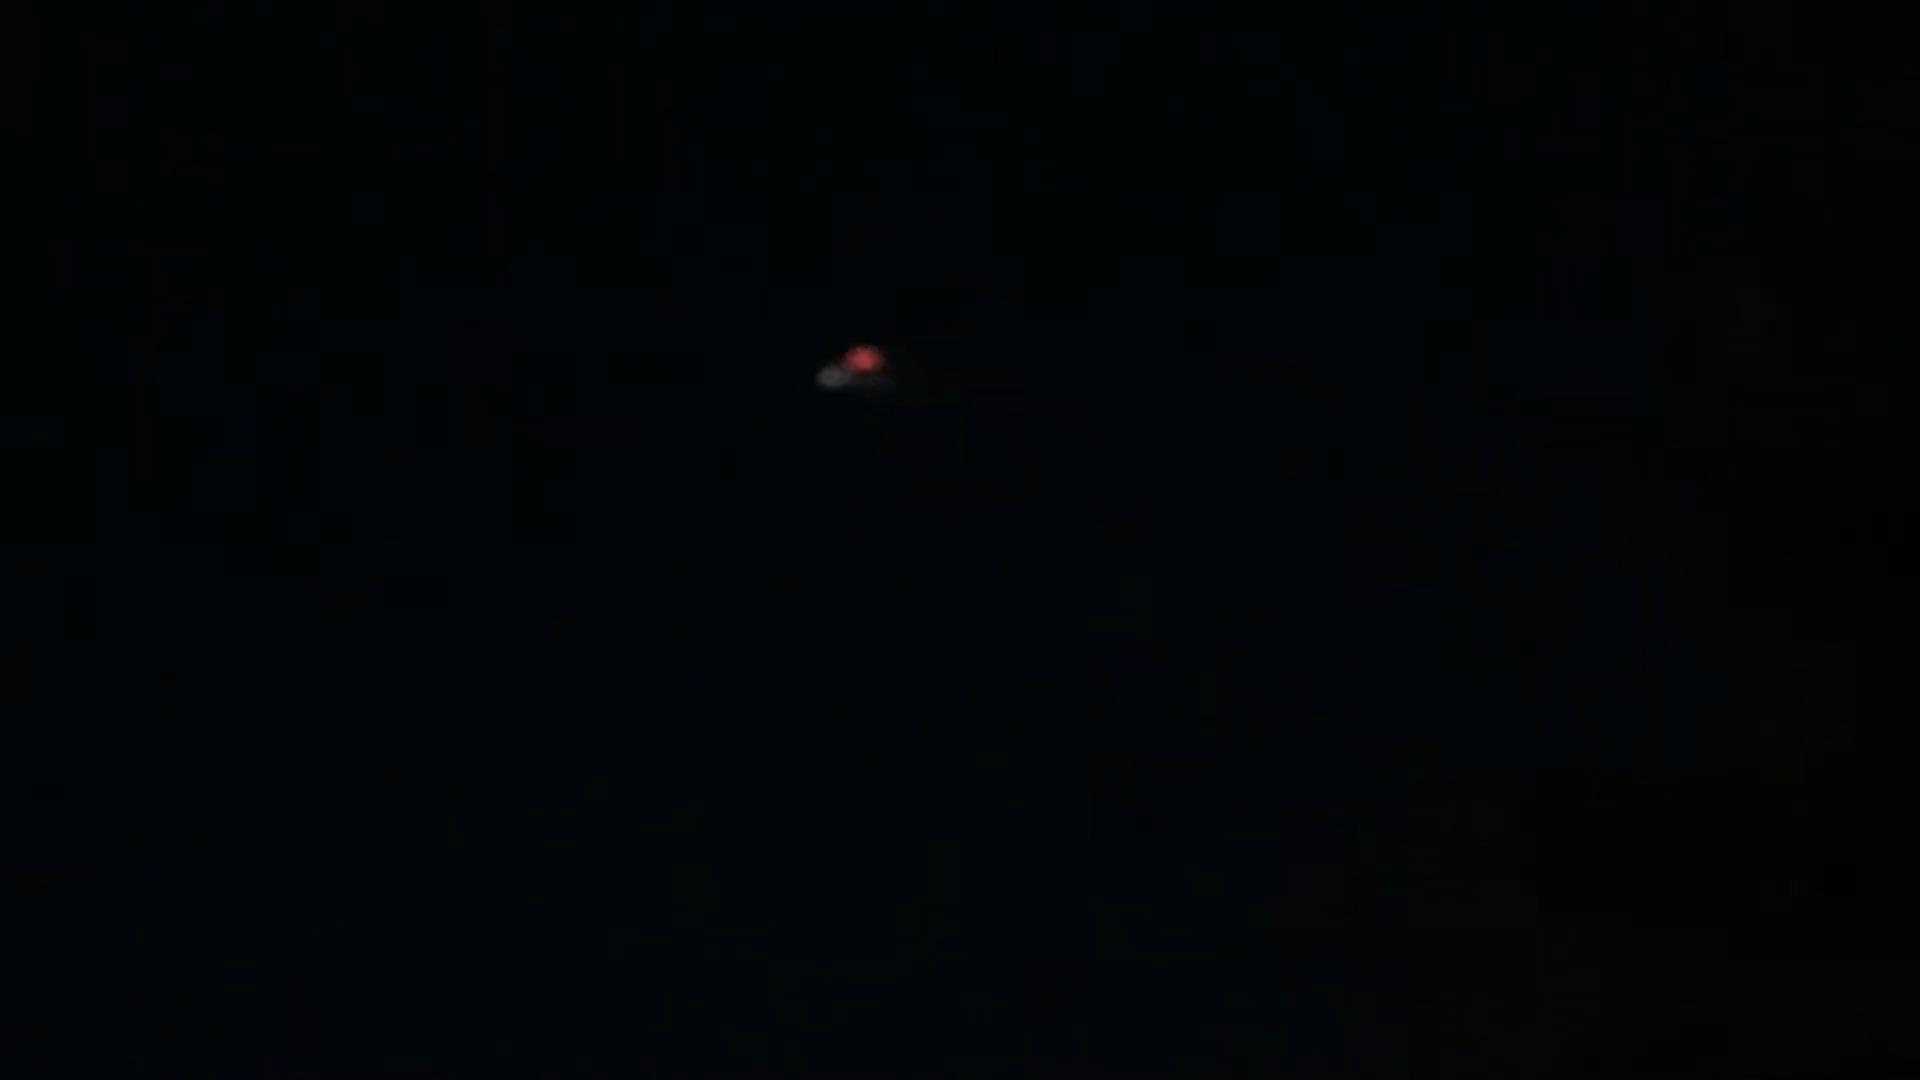Plane: (753, 320, 953, 410)
